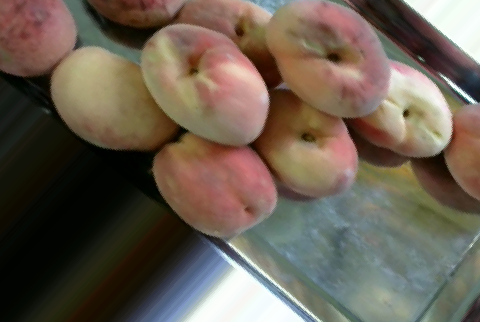Peach: (139, 23, 269, 144), (267, 0, 390, 116), (51, 44, 181, 151), (153, 129, 277, 238), (256, 86, 359, 199), (351, 58, 454, 157), (0, 0, 78, 77)
